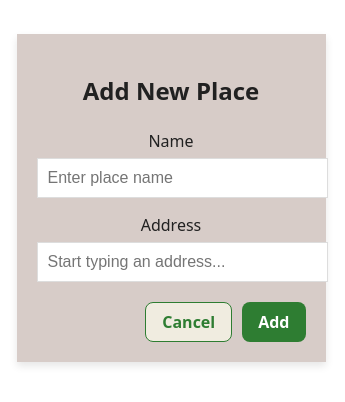
Test: PlaceForm Component › should show validation error when form is submitted with empty fields
// Submit the form with empty fields
Click the button "Add". click: (274, 322)
box: [242,302,306,342]
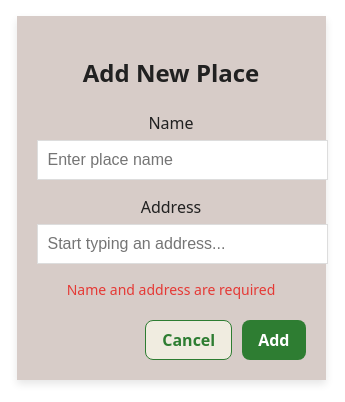
Result: the text "Name and address are required" is shown at [67,280,275,300]
